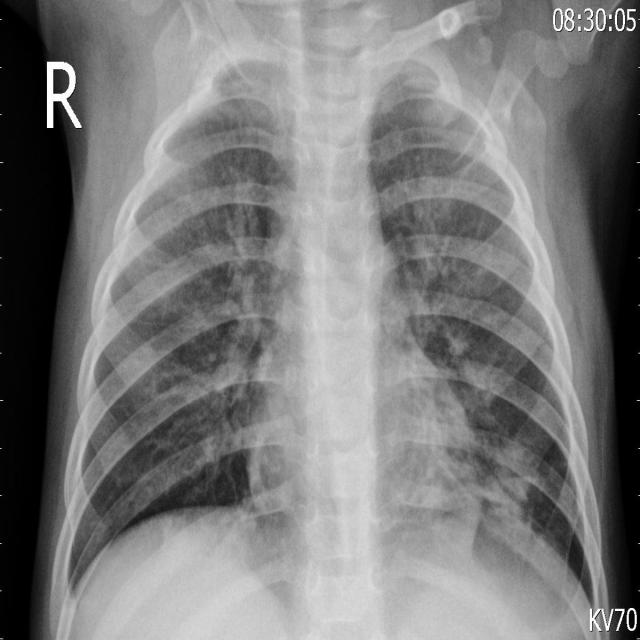low-pneumonia: (197, 164, 277, 459), (395, 165, 482, 359), (201, 33, 287, 183)
